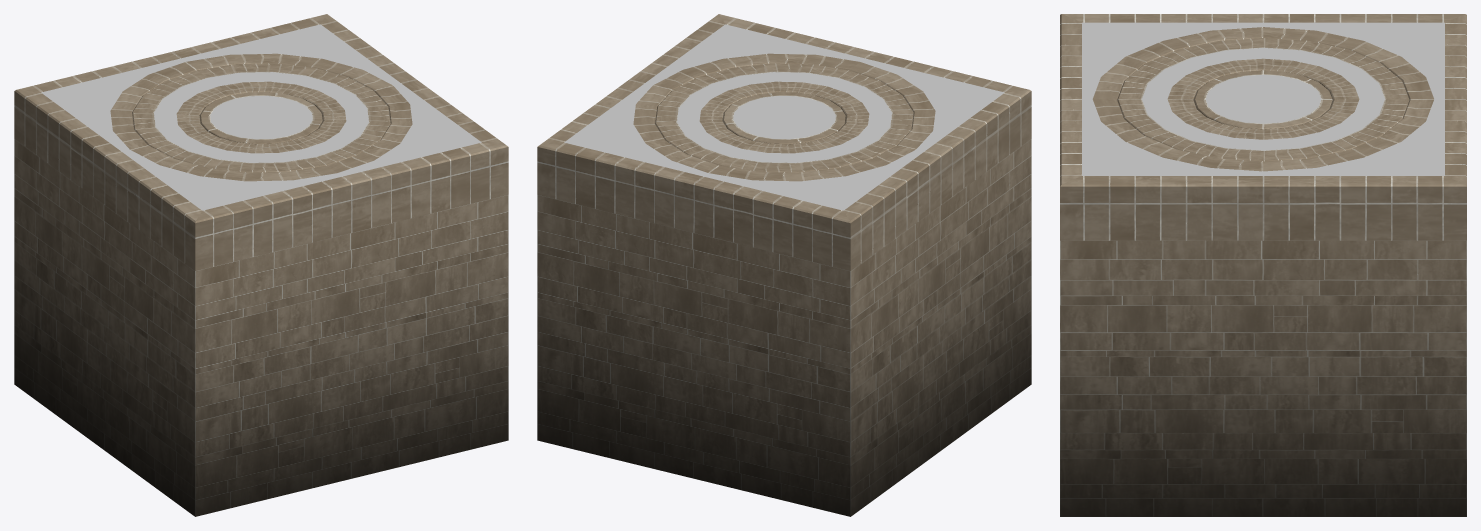
The model's file is PlatformLargeColumn2OscY.fbx.
3 views of the same model, side by side, from view 1: azimuth 30°, elevation 25°; view 2: azimuth 150°, elevation 25°; view 3: azimuth 270°, elevation 25° (orthographic). The views are drawn at different scales.
Visible parts, largest first — view 1: PlatformLargeColumn2OscY_Floor, ColumnOuter, ColumnInner; view 2: PlatformLargeColumn2OscY_Floor, ColumnOuter, ColumnInner; view 3: PlatformLargeColumn2OscY_Floor, ColumnOuter, ColumnInner.
Part boxes in pixels (x1=…): PlatformLargeColumn2OscY_Floor: x1=14, y1=14, x2=508, y2=516; ColumnOuter: x1=132, y1=63, x2=390, y2=172; ColumnInner: x1=200, y1=92, x2=322, y2=144; PlatformLargeColumn2OscY_Floor: x1=537, y1=14, x2=1031, y2=516; ColumnOuter: x1=655, y1=63, x2=913, y2=172; ColumnInner: x1=723, y1=92, x2=845, y2=144; PlatformLargeColumn2OscY_Floor: x1=1060, y1=14, x2=1466, y2=516; ColumnOuter: x1=1117, y1=38, x2=1409, y2=161; ColumnInner: x1=1194, y1=70, x2=1332, y2=129.
Size of what is drawn, in the model's own units: 500 by 450 by 500.
